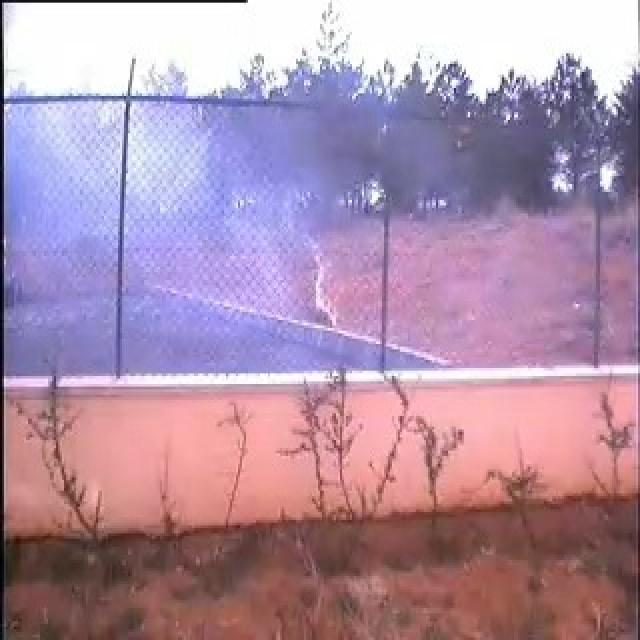Smoke: (48, 95, 272, 372)
